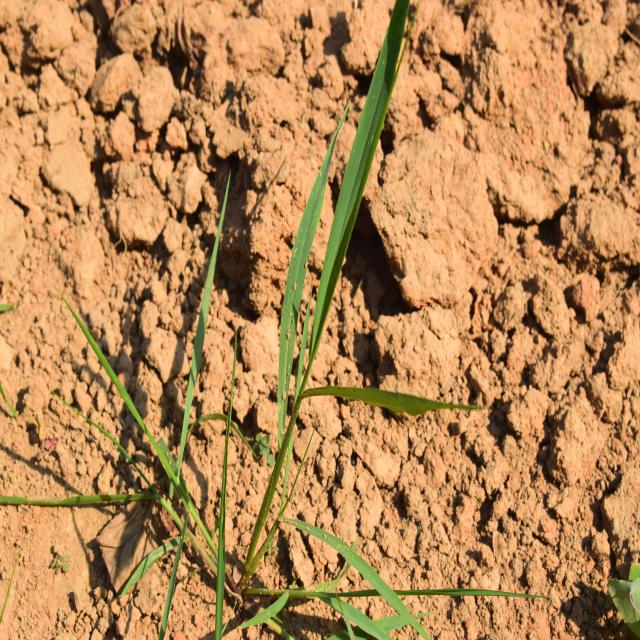green_foxtail: (250, 20, 480, 526)
